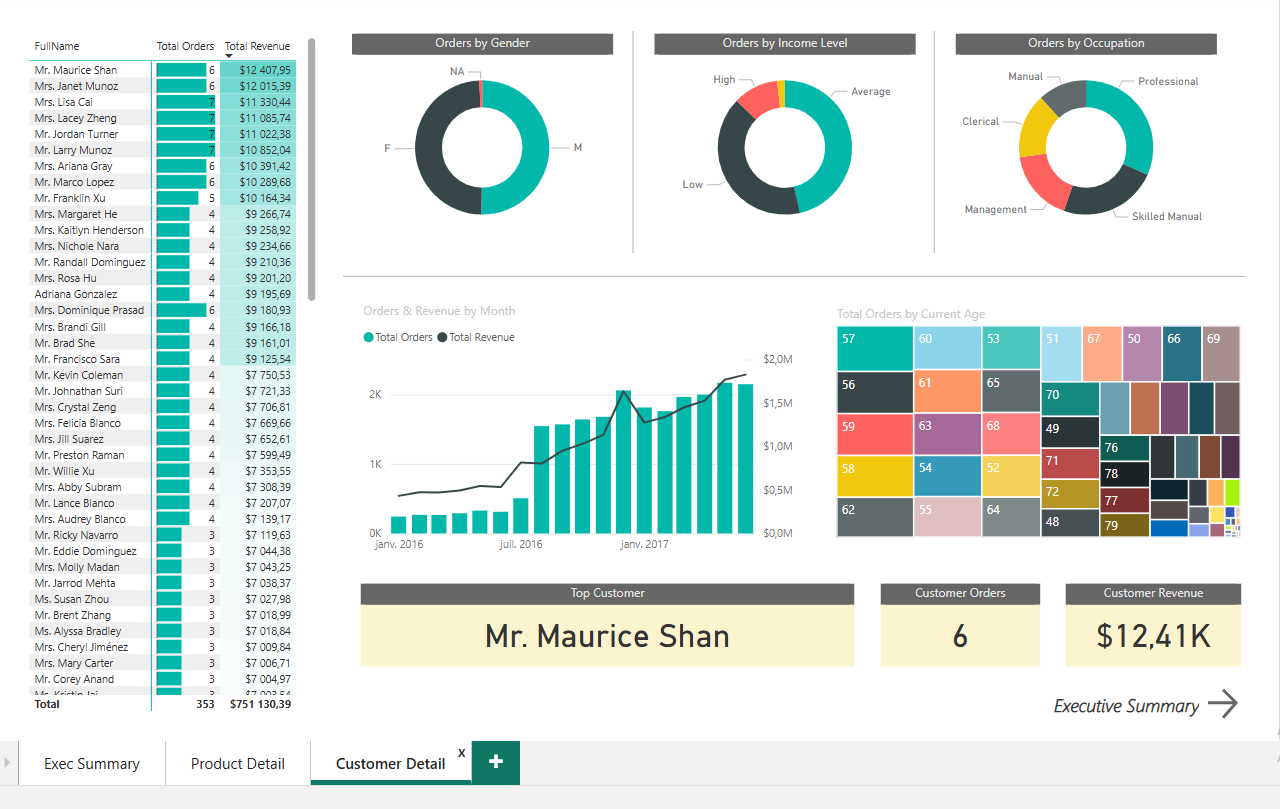

The dashboard page shown, as its layout file describes it:
{"tool":"powerbi","page":{"name":"Customer Detail","canvas":[1280,720],"ordinal":2},"visuals":[{"type":"pivotTable","fields":{"Values":["AW_Sales.Total Orders","AW_Sales.Total Revenue"],"Rows":["AW_Customer_Lookup.FullName"]},"box":[27.7,12.1,296.3,682.9],"z":0},{"type":"donutChart","title":"Orders by Gender","fields":{"Y":["AW_Sales.Total Orders"],"Category":["AW_Customer_Lookup.Gender"]},"box":[354.6,13.7,260.6,211.6],"z":1000},{"type":"donutChart","title":"Orders by Income Level","fields":{"Y":["AW_Sales.Total Orders"],"Category":["AW_Customer_Lookup.IncomeLevel"]},"box":[656.1,13.7,260.8,211.6],"z":2000},{"type":"donutChart","title":"Orders by Occupation","fields":{"Y":["AW_Sales.Total Orders"],"Category":["AW_Customer_Lookup.Occupation"]},"box":[957.9,13.7,260.8,211.6],"z":3000},{"type":"lineClusteredColumnComboChart","title":"Orders & Revenue by Month","fields":{"Y":["AW_Sales.Total Orders"],"Y2":["AW_Sales.Total Revenue"],"Category":["AW_Calendar_Lookup.Start of Month"]},"box":[360.6,282.5,439,258.5],"z":4000},{"type":"treemap","fields":{"Values":["AW_Sales.Total Orders"],"Group":["AW_Customer_Lookup.Current Age"]},"box":[833.9,284.6,412.9,237],"z":5000},{"type":"card","title":"Top Customer","fields":{"Values":["AW_Customer_Lookup.FullName"]},"box":[363.8,562.8,493,82.4],"z":6000},{"type":"card","title":"Customer Orders","fields":{"Values":["AW_Sales.Total Orders"]},"box":[881.9,562.8,159,82.4],"z":7000},{"type":"card","title":"Customer Revenue","fields":{"Values":["AW_Sales.Total Revenue"]},"box":[1066.8,562.8,175.5,82.4],"z":8000},{"type":"textbox","box":[1025.8,667.1,179.6,45.8],"z":9000},{"type":"actionButton","box":[1203.4,663,48,40],"z":10000},{"type":"basicShape","box":[612,0.7,46.9,241.4],"z":11000},{"type":"basicShape","box":[912.8,1.1,46.9,241.4],"z":12000},{"type":"basicShape","box":[336.3,236.8,920.8,37.7],"z":13000}]}

Visuals, with their boxes on the page's 1280x720 design canvas (x1, y1, x2, y2). These are canvas units, not pixel positions in the 1280x809 screenshot, which may show the page scaled, cropped or inside an application window:
pivotTable - AW_Sales.Total Orders x AW_Sales.Total Revenue: [28, 12, 324, 695]
"Orders by Gender" donutChart: [355, 14, 615, 225]
"Orders by Income Level" donutChart: [656, 14, 917, 225]
"Orders by Occupation" donutChart: [958, 14, 1219, 225]
"Orders & Revenue by Month" lineClusteredColumnComboChart: [361, 282, 800, 541]
treemap - AW_Sales.Total Orders x AW_Customer_Lookup.Current Age: [834, 285, 1247, 522]
"Top Customer" card: [364, 563, 857, 645]
"Customer Orders" card: [882, 563, 1041, 645]
"Customer Revenue" card: [1067, 563, 1242, 645]
textbox: [1026, 667, 1205, 713]
actionButton: [1203, 663, 1251, 703]
basicShape: [612, 1, 659, 242]
basicShape: [913, 1, 960, 242]
basicShape: [336, 237, 1257, 274]
